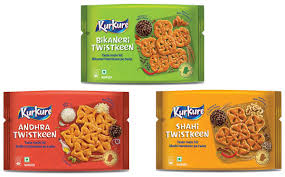kurkure: (169, 103, 206, 120), (17, 104, 53, 120), (94, 19, 127, 33)
plastic: (3, 3, 284, 174)
wrapper: (74, 2, 213, 86), (1, 88, 135, 172), (153, 88, 283, 173)
